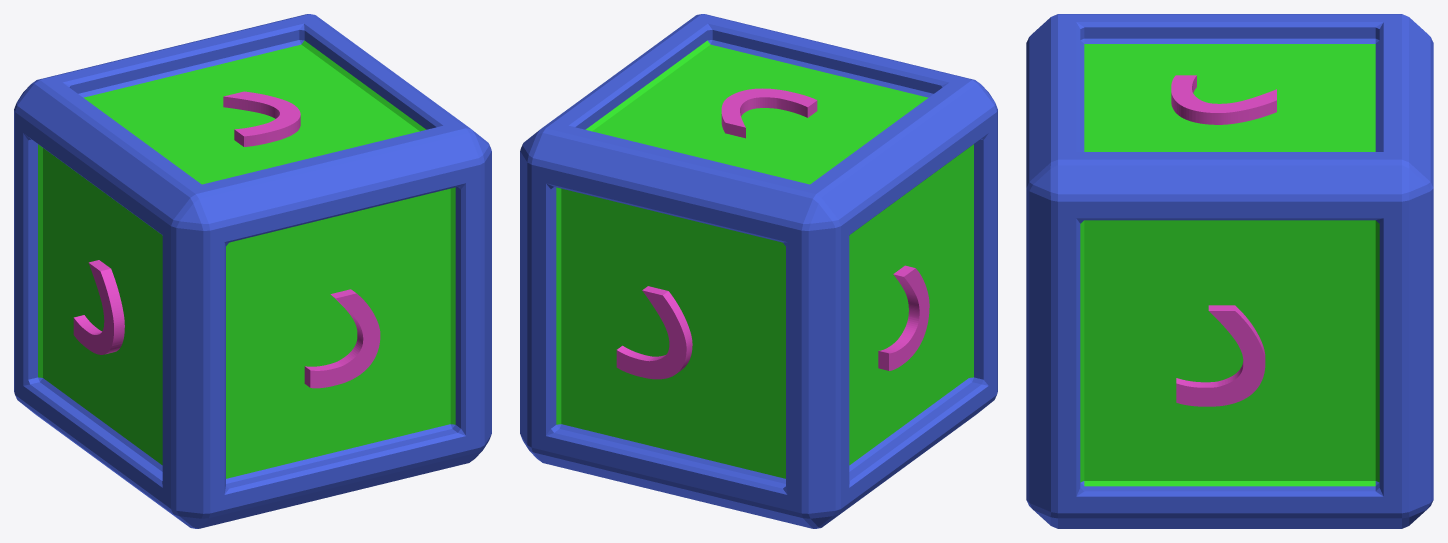
3 views of the same model, side by side, from view 1: azimuth 30°, elevation 25°; view 2: azimuth 150°, elevation 25°; view 3: azimuth 270°, elevation 25° (orthographic). The views are drawn at different scales.
Visible parts, largest first — view 1: Text.028; view 2: Text.028; view 3: Text.028.
Part boxes in pixels (left/top/right/bottom): Text.028: left=14, top=14, right=491, bottom=528; Text.028: left=520, top=14, right=997, bottom=528; Text.028: left=1026, top=14, right=1433, bottom=528.
Size of the model in its own units: 15 by 15 by 15.
